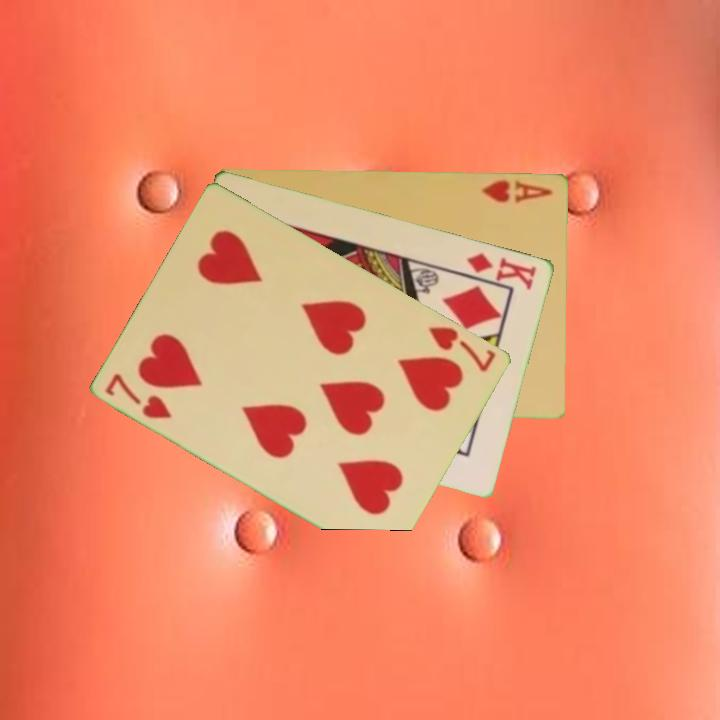7h: (426, 322, 500, 375), (102, 369, 175, 422)
Ah: (478, 176, 556, 205)
Kd: (463, 248, 540, 293)
